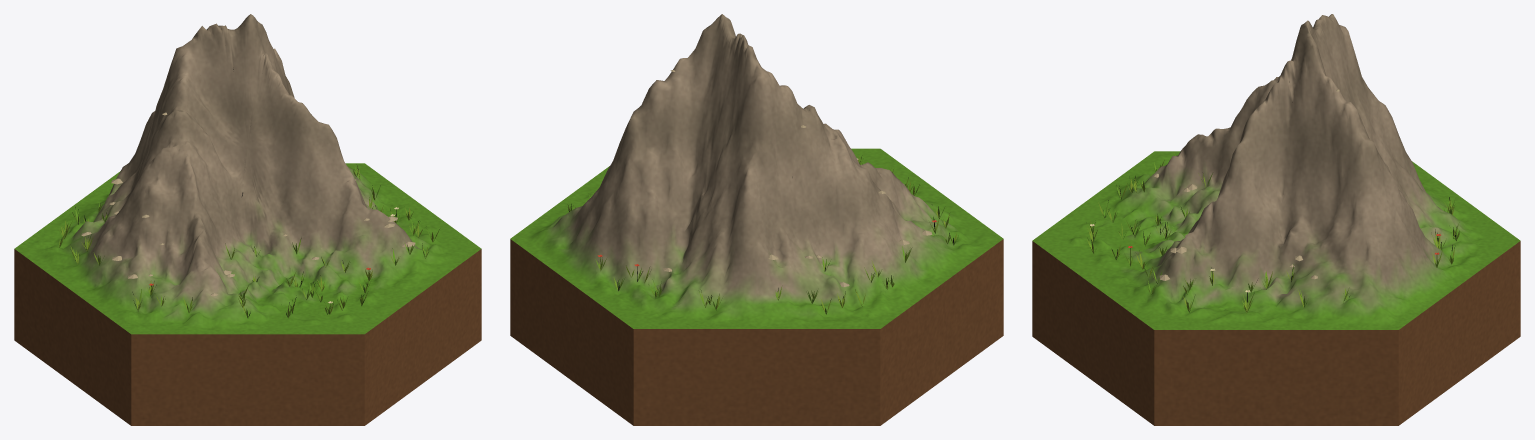
The model's file is SM_MontanaNatural_A_Detalle_LOD0.fbx.
3 views of the same model, side by side, from view 1: azimuth 30°, elevation 25°; view 2: azimuth 150°, elevation 25°; view 3: azimuth 270°, elevation 25° (orthographic). The views are drawn at different scales.
Parts seen in each view (by area): view 1: SM_MontanaNatural_A_Detalle_LOD0; view 2: SM_MontanaNatural_A_Detalle_LOD0; view 3: SM_MontanaNatural_A_Detalle_LOD0.
Boxes of the visible parts, left/top/right/bottom form: SM_MontanaNatural_A_Detalle_LOD0: left=14, top=14, right=481, bottom=425; SM_MontanaNatural_A_Detalle_LOD0: left=510, top=14, right=1003, bottom=425; SM_MontanaNatural_A_Detalle_LOD0: left=1032, top=14, right=1520, bottom=425.
Size of the model in its own units: 1.68 by 1.43 by 1.94.
Materials: 1 (1 with a texture image).
